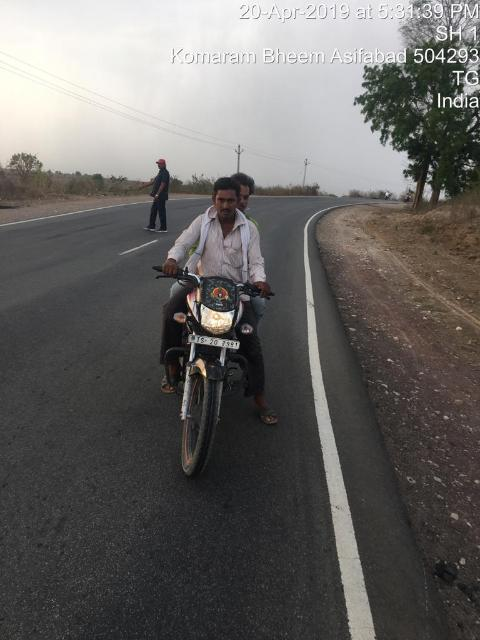motor: (151, 262, 277, 482)
non-helm: (213, 179, 243, 221), (231, 173, 257, 214)
